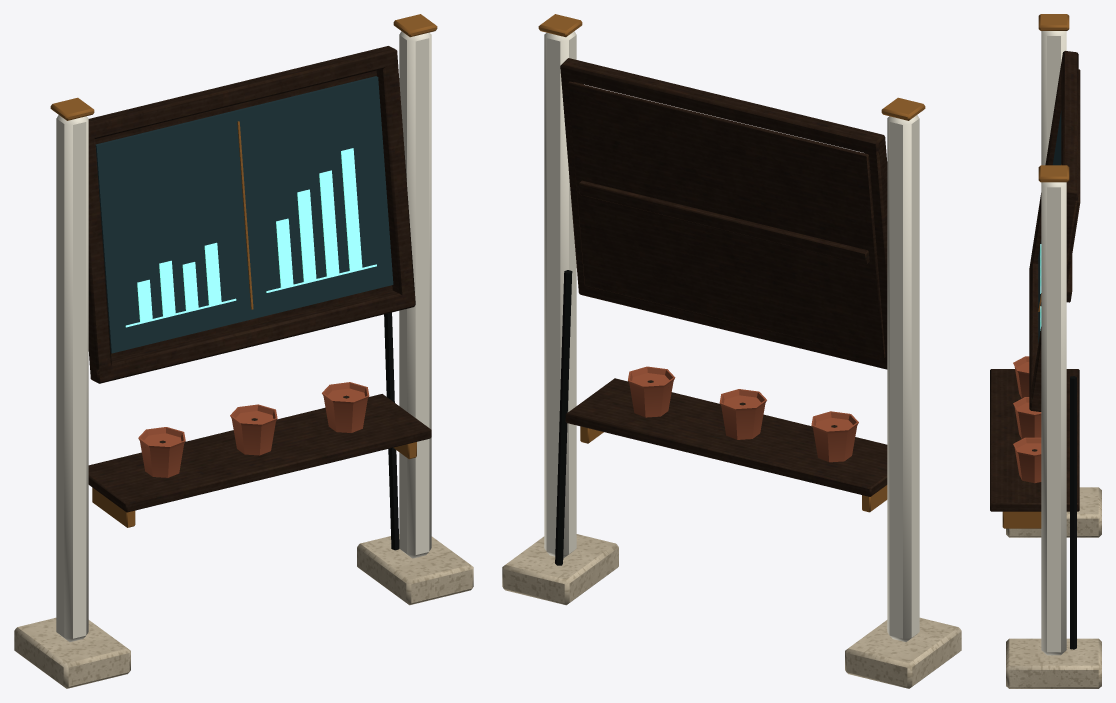
File: conservatory-measurement-panel.lod1.glb
The picture shows the model from 3 angles, left to right: view 1: azimuth 30°, elevation 25°; view 2: azimuth 150°, elevation 25°; view 3: azimuth 270°, elevation 25°; orthographic projection. The views are drawn at different scales.
Parts seen in each view (by area): view 1: conservatory_measurement_panel_panel_slot, conservatory_measurement_panel_Timber • oiled walnut, conservatory_measurement_panel_Ceramic • warm ivory, conservatory_measurement_panel_Stone • warm limestone, conservatory_measurement_panel_Trim • places palette, conservatory_measurement_panel_Display • jade phosphor; view 2: conservatory_measurement_panel_Timber • oiled walnut, conservatory_measurement_panel_Ceramic • warm ivory, conservatory_measurement_panel_Stone • warm limestone, conservatory_measurement_panel_Trim • places palette; view 3: conservatory_measurement_panel_Ceramic • warm ivory, conservatory_measurement_panel_Timber • oiled walnut, conservatory_measurement_panel_Trim • places palette, conservatory_measurement_panel_Stone • warm limestone, conservatory_measurement_panel_panel_slot.
Boxes of the visible parts, x1,y1,x2,y2 form: conservatory_measurement_panel_panel_slot: (95,76,393,353); conservatory_measurement_panel_Timber • oiled walnut: (88,46,431,512); conservatory_measurement_panel_Ceramic • warm ivory: (56,31,431,641); conservatory_measurement_panel_Stone • warm limestone: (14,534,473,688); conservatory_measurement_panel_Trim • places palette: (50,14,437,550); conservatory_measurement_panel_Display • jade phosphor: (125,148,376,327); conservatory_measurement_panel_Timber • oiled walnut: (560,58,887,496); conservatory_measurement_panel_Ceramic • warm ivory: (544,31,919,641); conservatory_measurement_panel_Stone • warm limestone: (502,534,961,688); conservatory_measurement_panel_Trim • places palette: (538,14,925,565); conservatory_measurement_panel_Ceramic • warm ivory: (1041,31,1066,655); conservatory_measurement_panel_Timber • oiled walnut: (990,51,1080,511); conservatory_measurement_panel_Trim • places palette: (1002,14,1076,649); conservatory_measurement_panel_Stone • warm limestone: (1006,487,1101,688); conservatory_measurement_panel_panel_slot: (1038,111,1061,343).
Bounding box in the file's own units: 1.34 × 1.74 × 0.35.
6 materials, 3 textured.
